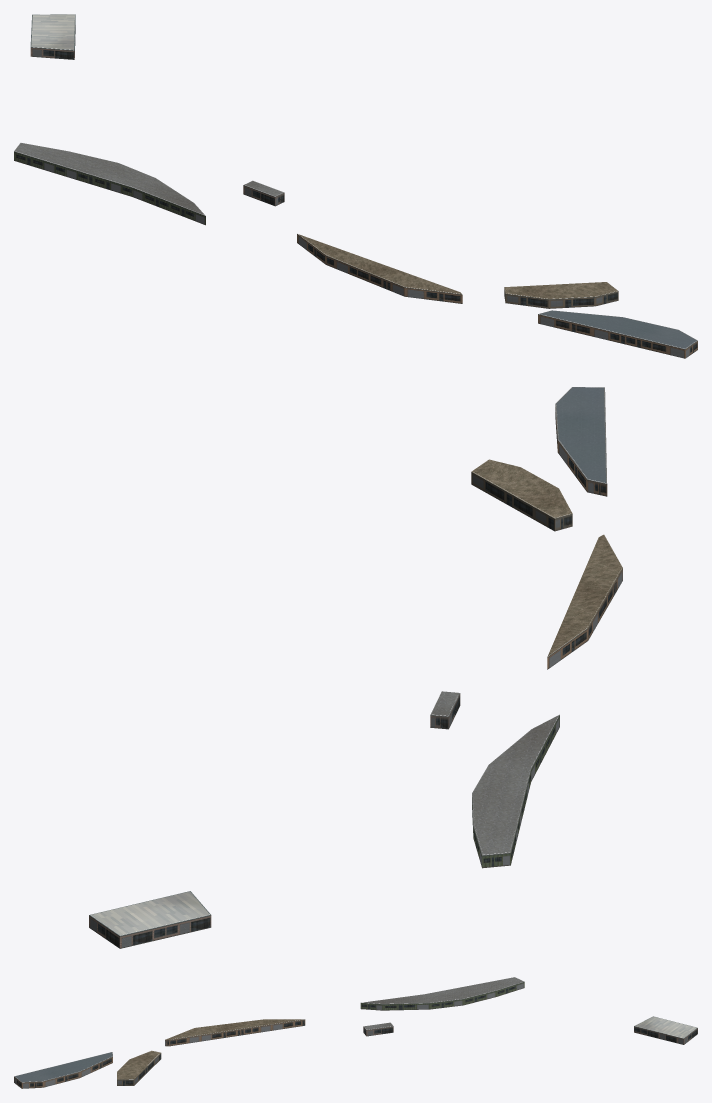
The picture shows the model from 3 angles, top to bottom: view 1: azimuth 30°, elevation 25°; view 2: azimuth 150°, elevation 25°; view 3: azimuth 270°, elevation 25°; orthographic projection. The views are drawn at different scales.
Parts seen in each view (by area): view 1: SlateRoof, BrickArcade, ConcreteRoof, SlateRoof surveyed, Workshop, ZincRoof surveyed, RibbedFront, PanelArcade; view 2: SlateRoof, ConcreteRoof, SlateRoof surveyed, ZincRoof surveyed, PanelArcade, BrickArcade, RibbedFront, Workshop; view 3: SlateRoof, BrickArcade, ConcreteRoof, Workshop, SlateRoof surveyed, ZincRoof surveyed, PanelArcade, RibbedFront.
Boxes of the visible parts, bbox=[...] form: SlateRoof: bbox=[14, 143, 697, 349]; BrickArcade: bbox=[297, 234, 697, 358]; ConcreteRoof: bbox=[298, 234, 618, 299]; SlateRoof surveyed: bbox=[540, 310, 696, 348]; Workshop: bbox=[14, 151, 205, 225]; ZincRoof surveyed: bbox=[31, 14, 74, 49]; RibbedFront: bbox=[504, 287, 618, 308]; PanelArcade: bbox=[30, 25, 284, 206]; SlateRoof: bbox=[430, 387, 607, 855]; ConcreteRoof: bbox=[471, 459, 622, 656]; SlateRoof surveyed: bbox=[556, 387, 605, 482]; ZincRoof surveyed: bbox=[91, 891, 209, 935]; PanelArcade: bbox=[89, 693, 460, 948]; BrickArcade: bbox=[547, 407, 622, 669]; RibbedFront: bbox=[471, 472, 572, 531]; Workshop: bbox=[472, 715, 559, 868]; SlateRoof: bbox=[14, 977, 524, 1082]; BrickArcade: bbox=[14, 1019, 305, 1088]; ConcreteRoof: bbox=[117, 1019, 303, 1079]; Workshop: bbox=[360, 982, 524, 1010]; SlateRoof surveyed: bbox=[15, 1052, 112, 1081]; ZincRoof surveyed: bbox=[635, 1016, 696, 1038]; PanelArcade: bbox=[363, 1026, 697, 1044]; RibbedFront: bbox=[117, 1053, 161, 1085].
Size of the model in its own units: 107 by 3.12 by 294.
9 materials, 9 textured.
